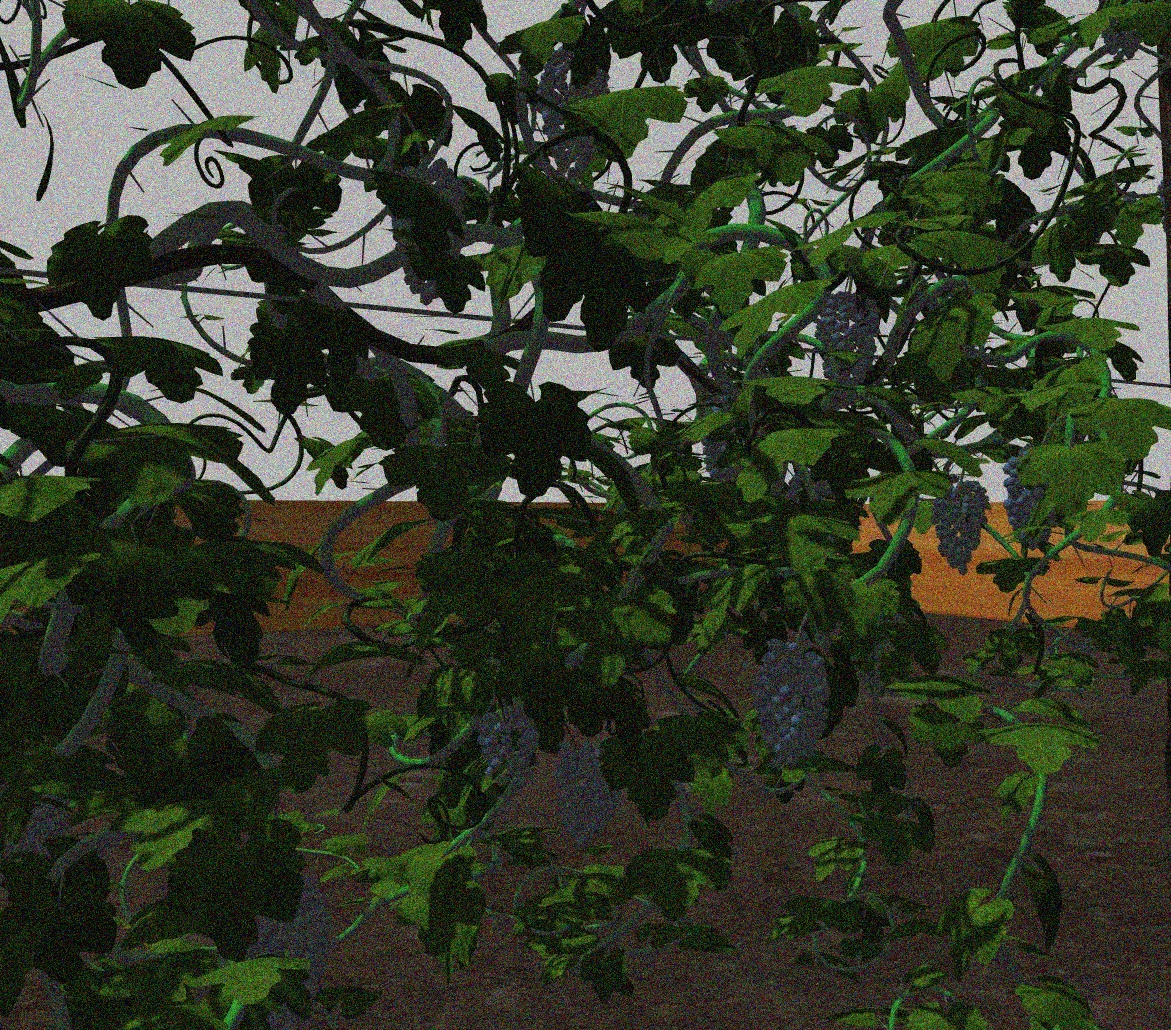grape: (245, 861, 334, 1028), (754, 635, 832, 772), (554, 745, 622, 856), (928, 478, 990, 580), (817, 295, 882, 386), (475, 707, 542, 785), (1004, 458, 1055, 546)
